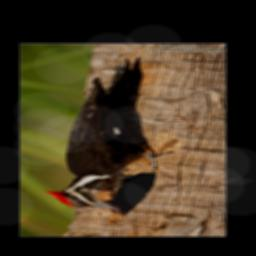Woodpecker: (43, 57, 175, 211)
